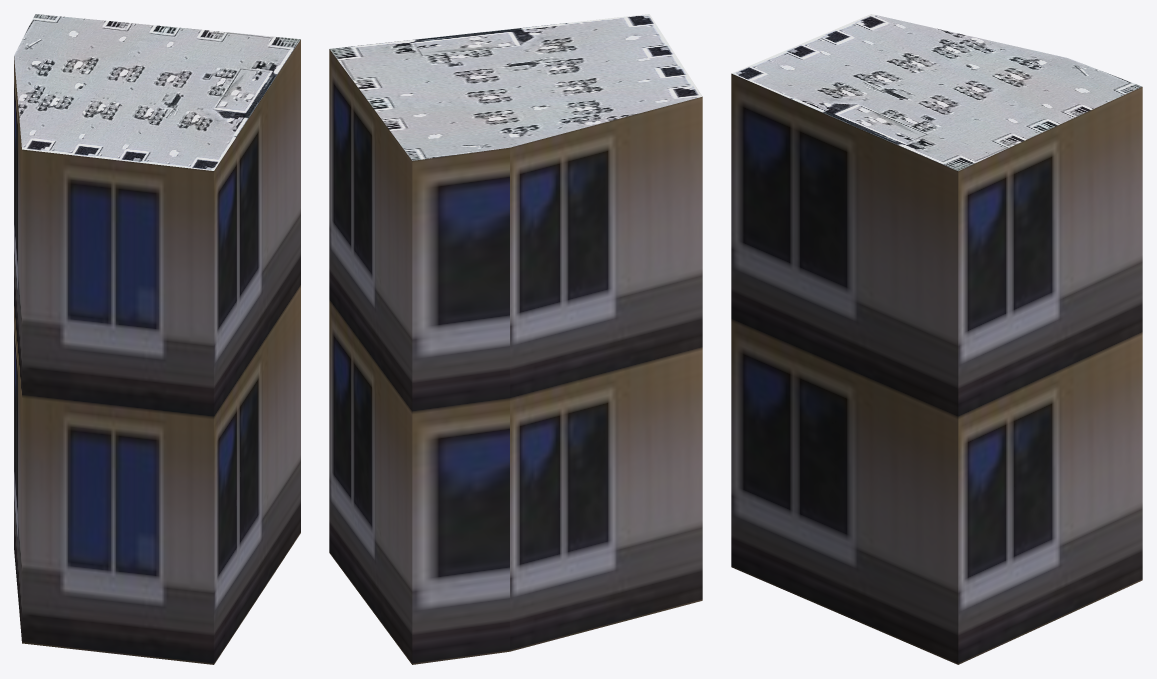
The model's file is ResTex__426.fbx.
The picture shows the model from 3 angles, left to right: view 1: azimuth 30°, elevation 25°; view 2: azimuth 150°, elevation 25°; view 3: azimuth 270°, elevation 25°; orthographic projection. The views are drawn at different scales.
Visible parts, largest first — view 1: CityEngineMaterial_5_m, CityEngineMaterial_4_m; view 2: CityEngineMaterial_5_m, CityEngineMaterial_4_m; view 3: CityEngineMaterial_5_m, CityEngineMaterial_4_m.
Part boxes in pixels (x1=…): CityEngineMaterial_5_m: x1=14, y1=39, x2=300, y2=664; CityEngineMaterial_4_m: x1=14, y1=14, x2=300, y2=170; CityEngineMaterial_5_m: x1=329, y1=49, x2=702, y2=664; CityEngineMaterial_4_m: x1=330, y1=14, x2=702, y2=160; CityEngineMaterial_5_m: x1=731, y1=73, x2=1142, y2=664; CityEngineMaterial_4_m: x1=731, y1=14, x2=1141, y2=170.
Bounding box in the file's own units: 4.1 × 6 × 4.53.
2 materials, 2 textured.
